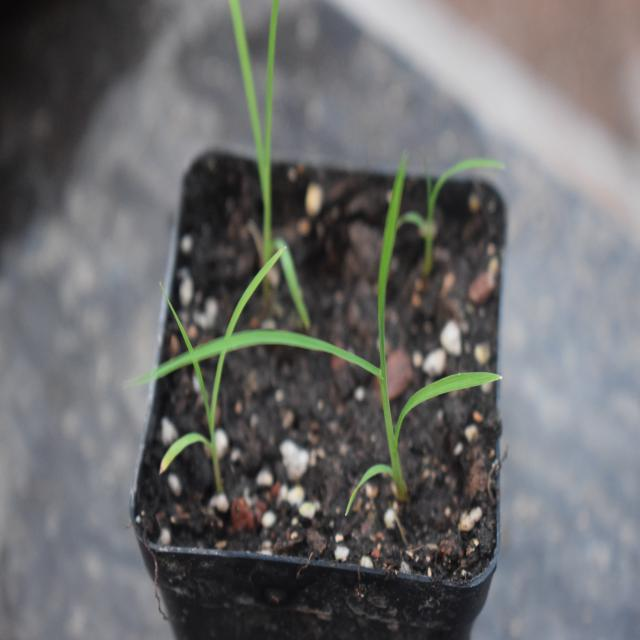barnyard_grass: (156, 185, 488, 490)
